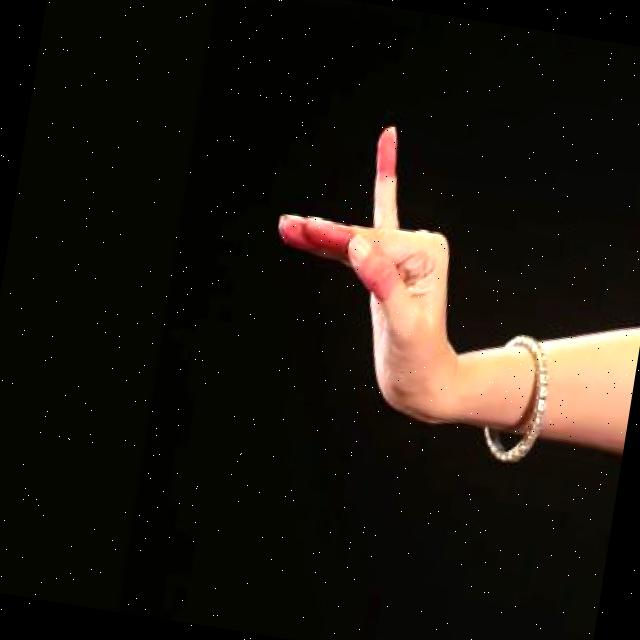Hamsapaksha: (217, 70, 504, 464)
